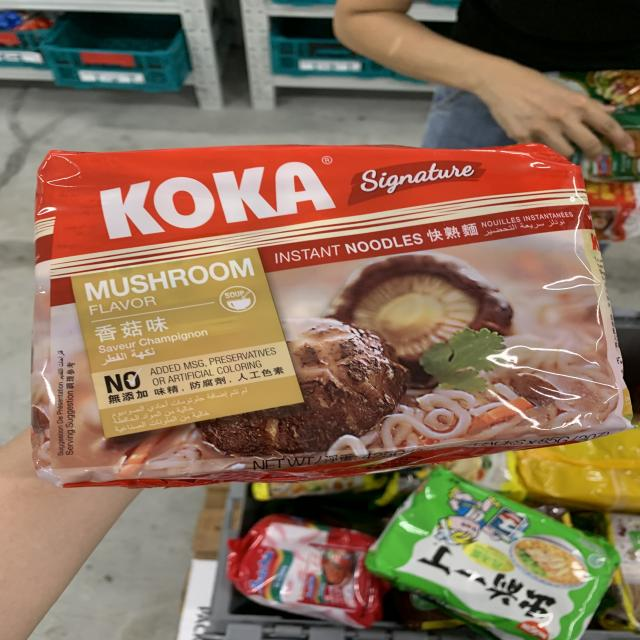object_name: (35, 146, 603, 452)
